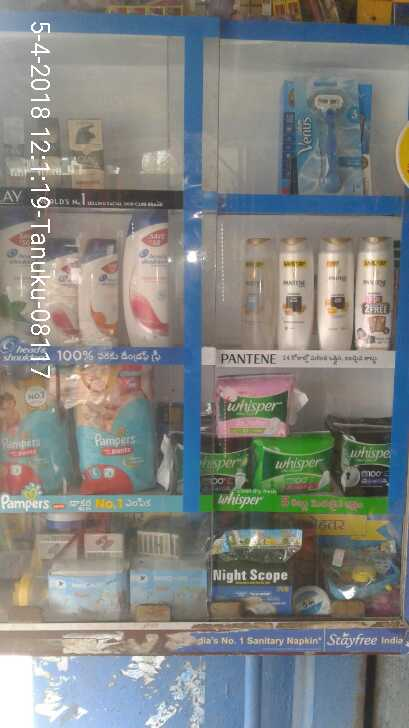venus: (294, 79, 363, 193)
